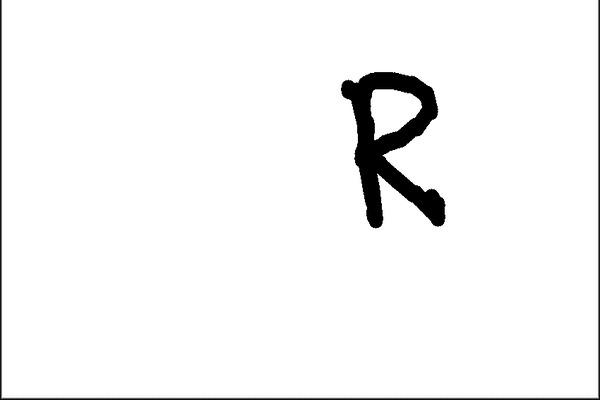R: (324, 63, 465, 238)
